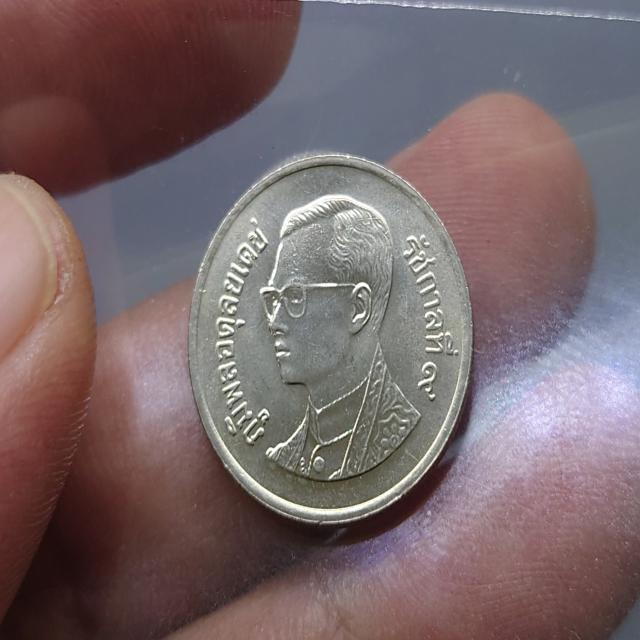1 Bath: (185, 138, 487, 538)
